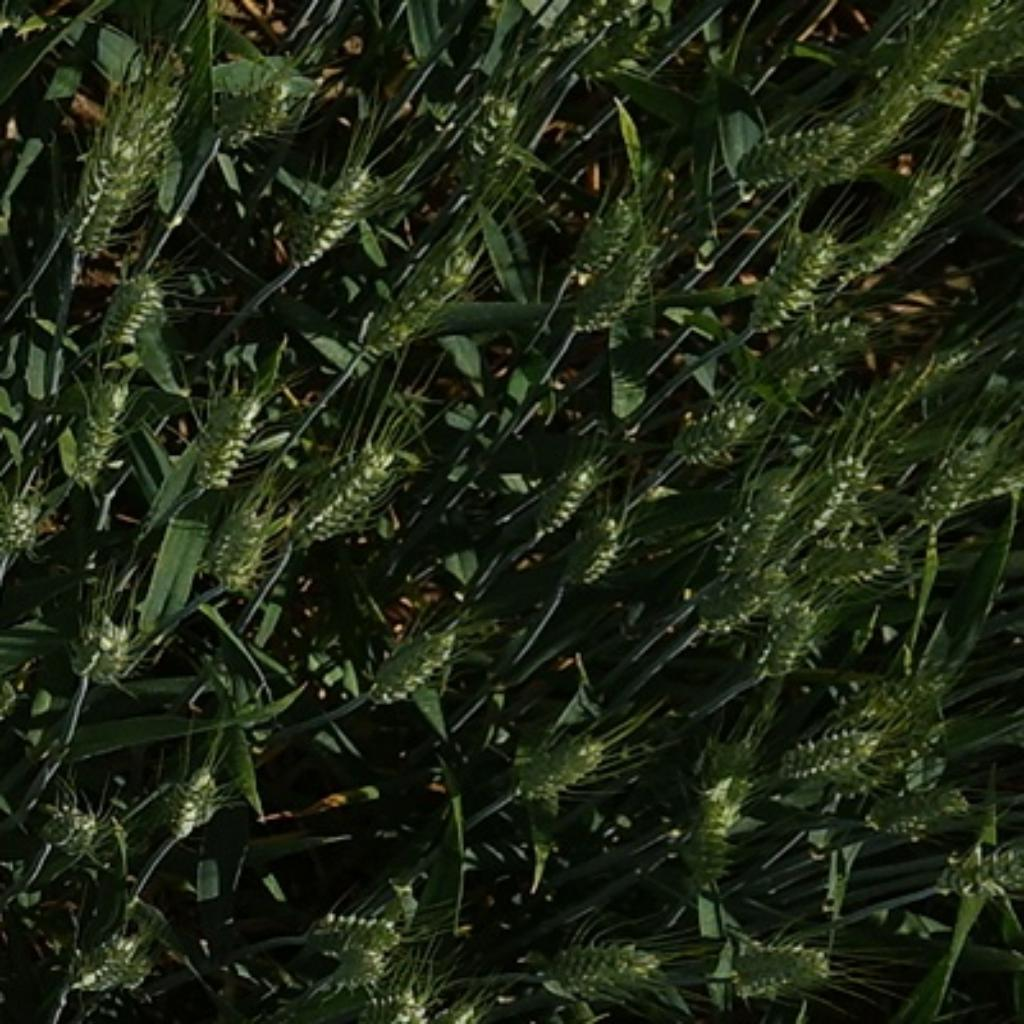0-0: (48, 53, 184, 258), (353, 225, 481, 360), (430, 74, 550, 215), (801, 81, 932, 193), (565, 225, 678, 353), (197, 35, 317, 148), (286, 432, 407, 542), (276, 151, 389, 263), (849, 161, 960, 271), (886, 2, 1024, 90), (739, 217, 842, 330), (504, 458, 616, 558), (366, 606, 471, 706), (660, 762, 742, 890), (714, 473, 808, 583), (532, 929, 670, 1003), (53, 355, 130, 486), (752, 309, 878, 389), (719, 921, 839, 1003), (174, 378, 261, 491), (504, 714, 611, 803), (834, 657, 957, 734), (770, 716, 896, 791), (793, 517, 919, 591), (670, 384, 773, 471), (919, 432, 1006, 535), (299, 896, 407, 977), (64, 913, 161, 1000), (736, 118, 856, 186), (194, 491, 276, 588), (64, 599, 153, 688), (857, 770, 972, 837), (552, 199, 634, 291), (744, 578, 826, 670), (92, 263, 174, 353), (801, 437, 880, 529), (555, 512, 647, 591), (696, 558, 796, 629), (30, 788, 120, 865), (156, 757, 227, 849), (542, 0, 643, 64), (934, 839, 1024, 906), (343, 975, 435, 1024), (0, 483, 58, 555), (0, 663, 30, 737)
